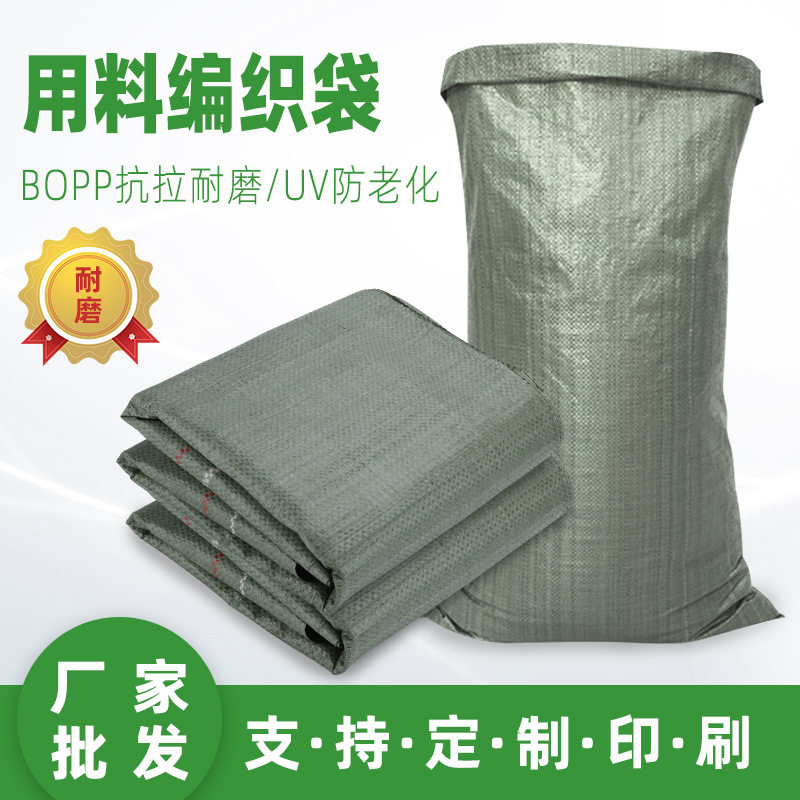塑料袋: (433, 45, 777, 642), (118, 290, 570, 672)
